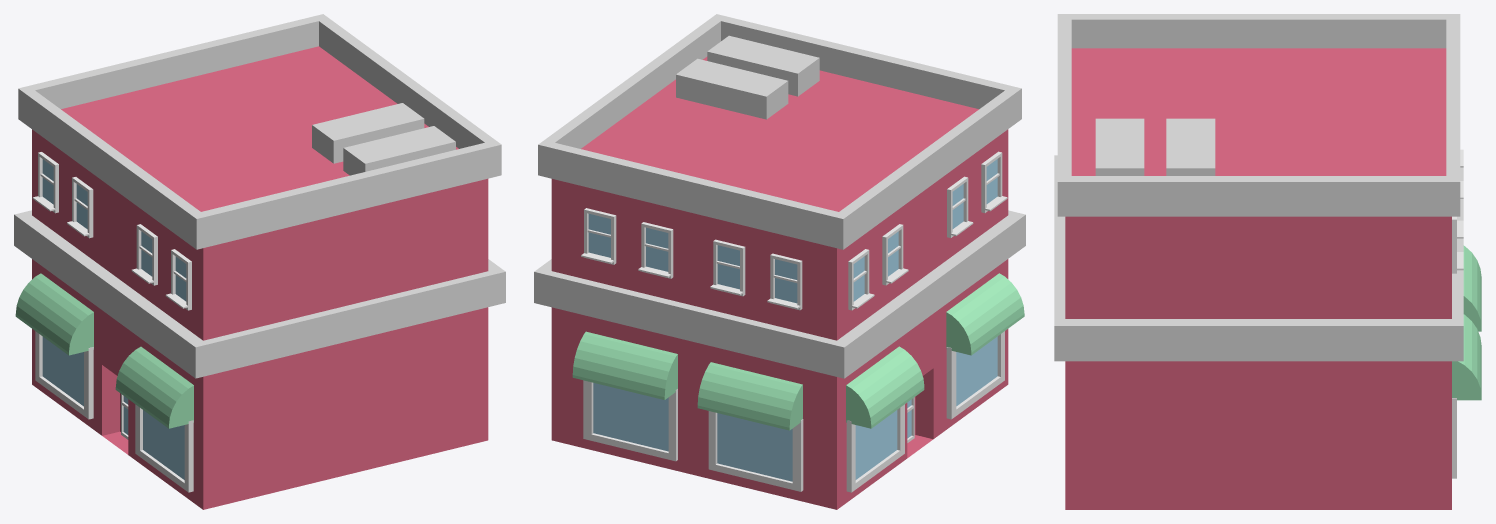
File: House2.fbx
3 views of the same model, side by side, from view 1: azimuth 30°, elevation 25°; view 2: azimuth 150°, elevation 25°; view 3: azimuth 270°, elevation 25° (orthographic). The views are drawn at different scales.
Parts seen in each view (by area): view 1: Cube.117, Cube.115, Cube.116, Cube.125, Cube.123, Cube.129, Cube.026, Cube.120, Cube.118; view 2: Cube.117, Cube.115, Cube.116, Cube.119, Cube.121, Cube.125, Cube.123, Cube.129, Cube.026, Cube.124, Cube.126, Cube.118 (+1 smaller); view 3: Cube.117, Cube.115, Cube.116, Cube.121, Cube.129, Cube.026, Cube.124.
Boxes of the visible parts, x1,y1,x2,y2 form: Cube.117: (32, 46, 488, 509); Cube.115: (18, 14, 501, 249); Cube.116: (14, 210, 505, 378); Cube.125: (15, 273, 193, 428); Cube.123: (35, 331, 193, 492); Cube.129: (312, 103, 424, 163); Cube.026: (343, 126, 455, 175); Cube.120: (67, 177, 157, 285); Cube.118: (32, 152, 191, 310); Cube.117: (551, 56, 1008, 509); Cube.115: (538, 14, 1021, 249); Cube.116: (534, 210, 1025, 378); Cube.119: (583, 380, 803, 491); Cube.121: (572, 331, 802, 430); Cube.125: (846, 273, 1024, 428); Cube.123: (846, 331, 1004, 492); Cube.129: (676, 58, 788, 119); Cube.026: (707, 35, 819, 96); Cube.124: (581, 208, 802, 310); Cube.126: (638, 222, 745, 296); Cube.118: (848, 151, 1007, 310); Cube.117: (1065, 48, 1451, 509); Cube.115: (1057, 14, 1460, 216); Cube.116: (1054, 155, 1463, 361); Cube.121: (1452, 245, 1481, 400); Cube.129: (1166, 118, 1215, 175); Cube.026: (1095, 118, 1144, 175); Cube.124: (1452, 149, 1463, 273).
Bounding box in the file's own units: 1740 × 1526 × 1769.
